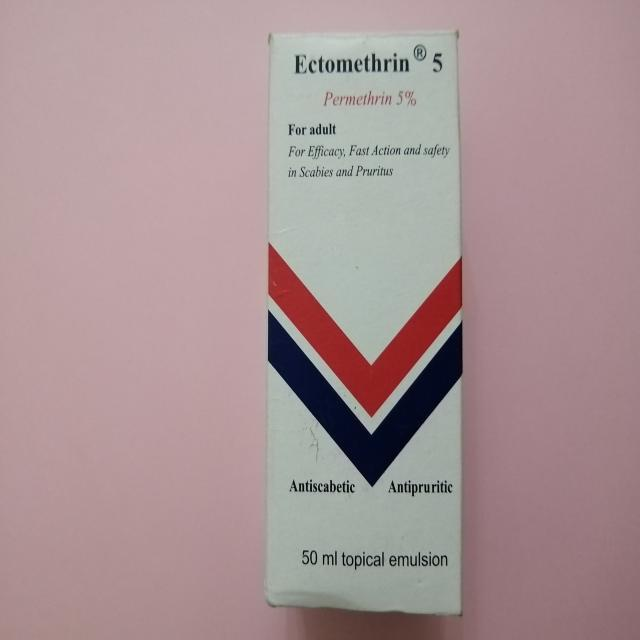Medicine Name: (295, 48, 412, 83)
